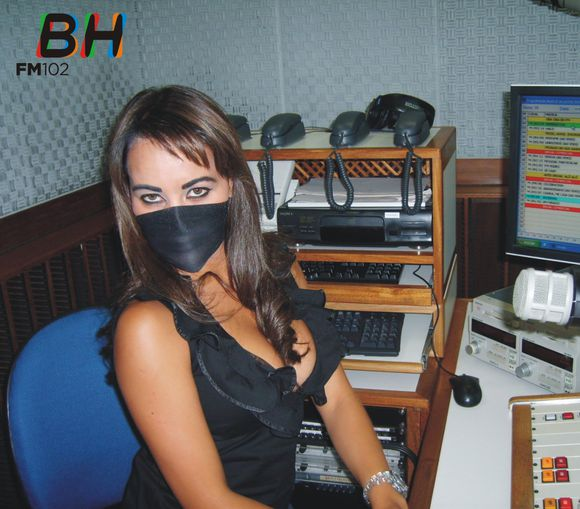face_mask: (125, 138, 229, 265)
